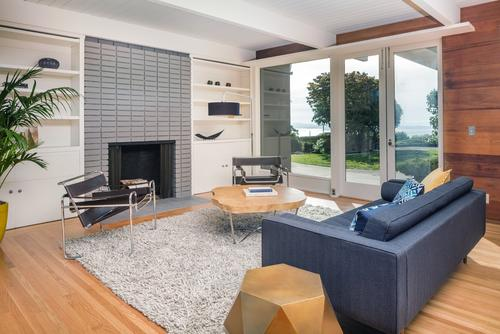chair: (52, 170, 162, 256), (226, 257, 343, 334), (224, 154, 298, 190)
door: (388, 46, 441, 197), (341, 47, 388, 196)
sofa: (258, 167, 488, 332)
table: (210, 182, 307, 244)
